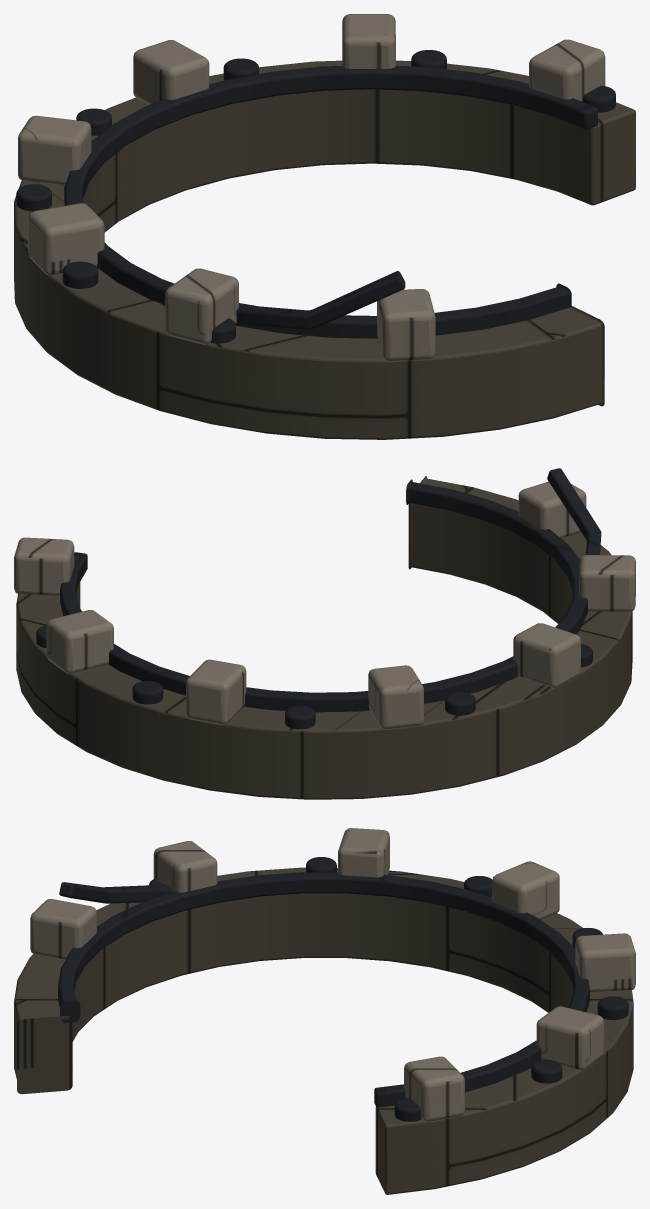
Rendered from cargo-broken-docking-collar_lod0.glb.
3 views of the same model, one above another, from view 1: azimuth 30°, elevation 25°; view 2: azimuth 150°, elevation 25°; view 3: azimuth 270°, elevation 25° (orthographic). The views are drawn at different scales.
Parts seen in each view (by area): view 1: LOD0_Hull, LOD0_MechanicalDark, LOD0_BrushedMetal; view 2: LOD0_Hull, LOD0_BrushedMetal, LOD0_MechanicalDark; view 3: LOD0_Hull, LOD0_BrushedMetal, LOD0_MechanicalDark.
Part boxes in pixels (x1,y1,x2,y2): LOD0_Hull: (14, 60, 635, 439); LOD0_MechanicalDark: (16, 50, 615, 343); LOD0_BrushedMetal: (18, 14, 605, 361); LOD0_Hull: (16, 476, 632, 799); LOD0_BrushedMetal: (14, 481, 635, 729); LOD0_MechanicalDark: (36, 468, 601, 729); LOD0_Hull: (14, 867, 633, 1194); LOD0_BrushedMetal: (30, 828, 635, 1122); LOD0_MechanicalDark: (58, 857, 628, 1121).
Bounding box in the file's own units: 2.38 × 0.5813 × 2.41.
3 materials, 3 textured.
